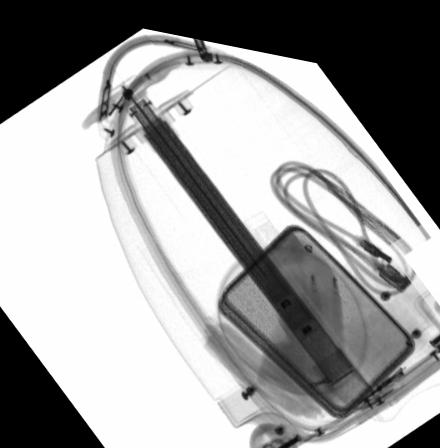Scissors: (354, 346, 411, 391)
